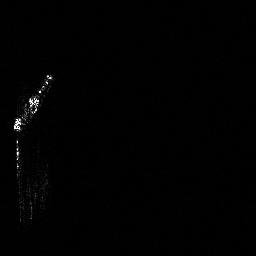ship: (9, 70, 57, 134)
